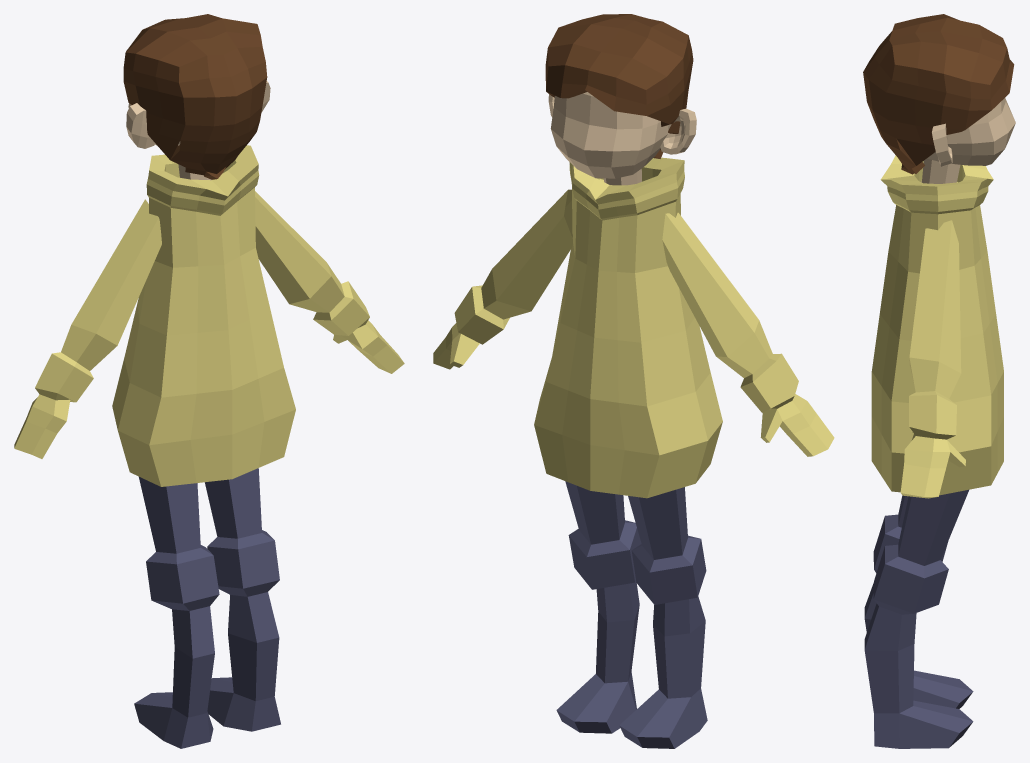
The model's file is Character.glb.
3 views of the same model, side by side, from view 1: azimuth 30°, elevation 25°; view 2: azimuth 150°, elevation 25°; view 3: azimuth 270°, elevation 25° (orthographic). The views are drawn at different scales.
Parts seen in each view (by area): view 1: Cube, Cylindre, Cylindre.001, Cube.003, Cube.002; view 2: Cube, Cylindre, Cylindre.001, Cube.003, Cube.001, Cube.002; view 3: Cube, Cylindre, Cube.003, Cylindre.001, Cube.001, Cylindre.002, Cube.002.
Part boxes in pixels (x1=…): Cube: x1=112, y1=145, x2=295, y2=486; Cylindre: x1=134, y1=468, x2=280, y2=748; Cylindre.001: x1=14, y1=191, x2=404, y2=458; Cube.003: x1=123, y1=14, x2=267, y2=179; Cube.002: x1=126, y1=80, x2=270, y2=148; Cube: x1=534, y1=157, x2=722, y2=498; Cylindre: x1=556, y1=481, x2=707, y2=748; Cylindre.001: x1=433, y1=189, x2=834, y2=456; Cube.003: x1=545, y1=14, x2=693, y2=158; Cube.001: x1=550, y1=92, x2=668, y2=178; Cube.002: x1=548, y1=94, x2=696, y2=154; Cube: x1=871, y1=155, x2=1003, y2=495; Cylindre: x1=864, y1=489, x2=973, y2=748; Cube.003: x1=863, y1=14, x2=1014, y2=174; Cylindre.001: x1=900, y1=220, x2=965, y2=498; Cube.001: x1=927, y1=98, x2=1015, y2=165; Cylindre.002: x1=920, y1=158, x2=960, y2=183; Cube.002: x1=932, y1=123, x2=952, y2=166.
Bounding box in the file's own units: 2.55 × 4.34 × 0.8704.
